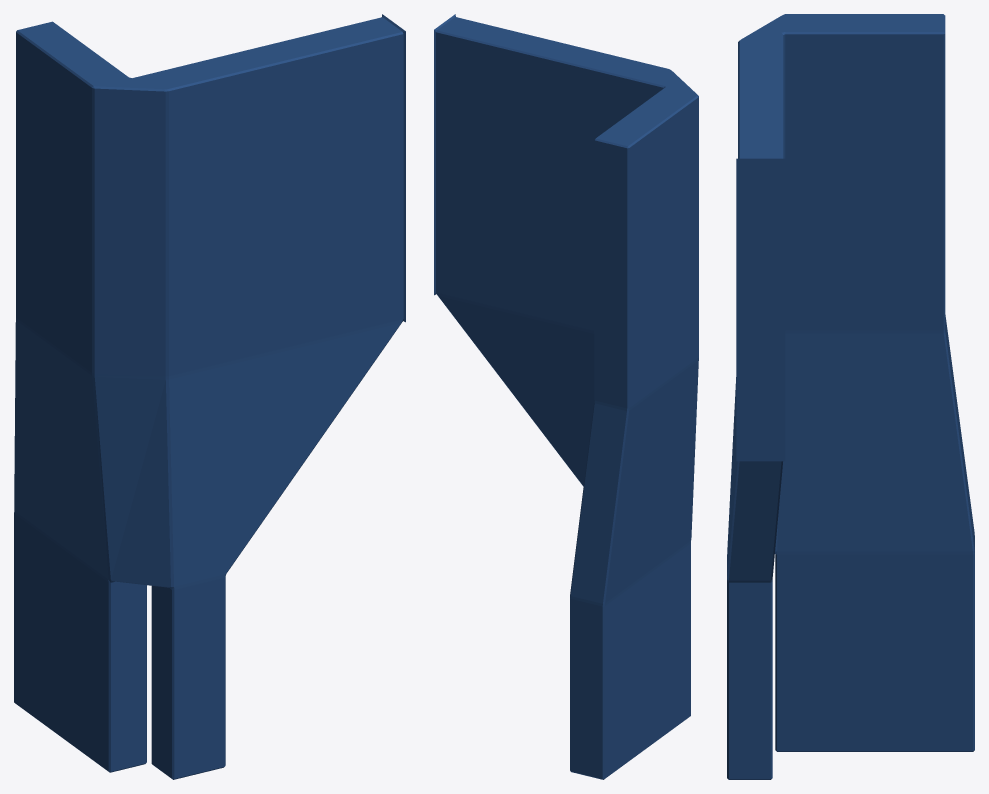
Rendered from VIS_ElbowWristLink.dae.
3 views of the same model, side by side, from view 1: azimuth 30°, elevation 25°; view 2: azimuth 150°, elevation 25°; view 3: azimuth 270°, elevation 25° (orthographic). The views are drawn at different scales.
Visible parts, largest first — view 1: VIS_ElbowWristLink; view 2: VIS_ElbowWristLink; view 3: VIS_ElbowWristLink.
Boxes of the visible parts, x1=… form: VIS_ElbowWristLink: x1=14, y1=14, x2=405, y2=779; VIS_ElbowWristLink: x1=434, y1=14, x2=698, y2=779; VIS_ElbowWristLink: x1=727, y1=14, x2=974, y2=779.
Bounding box in the file's own units: 0.1105 × 0.0787 × 0.2505.
